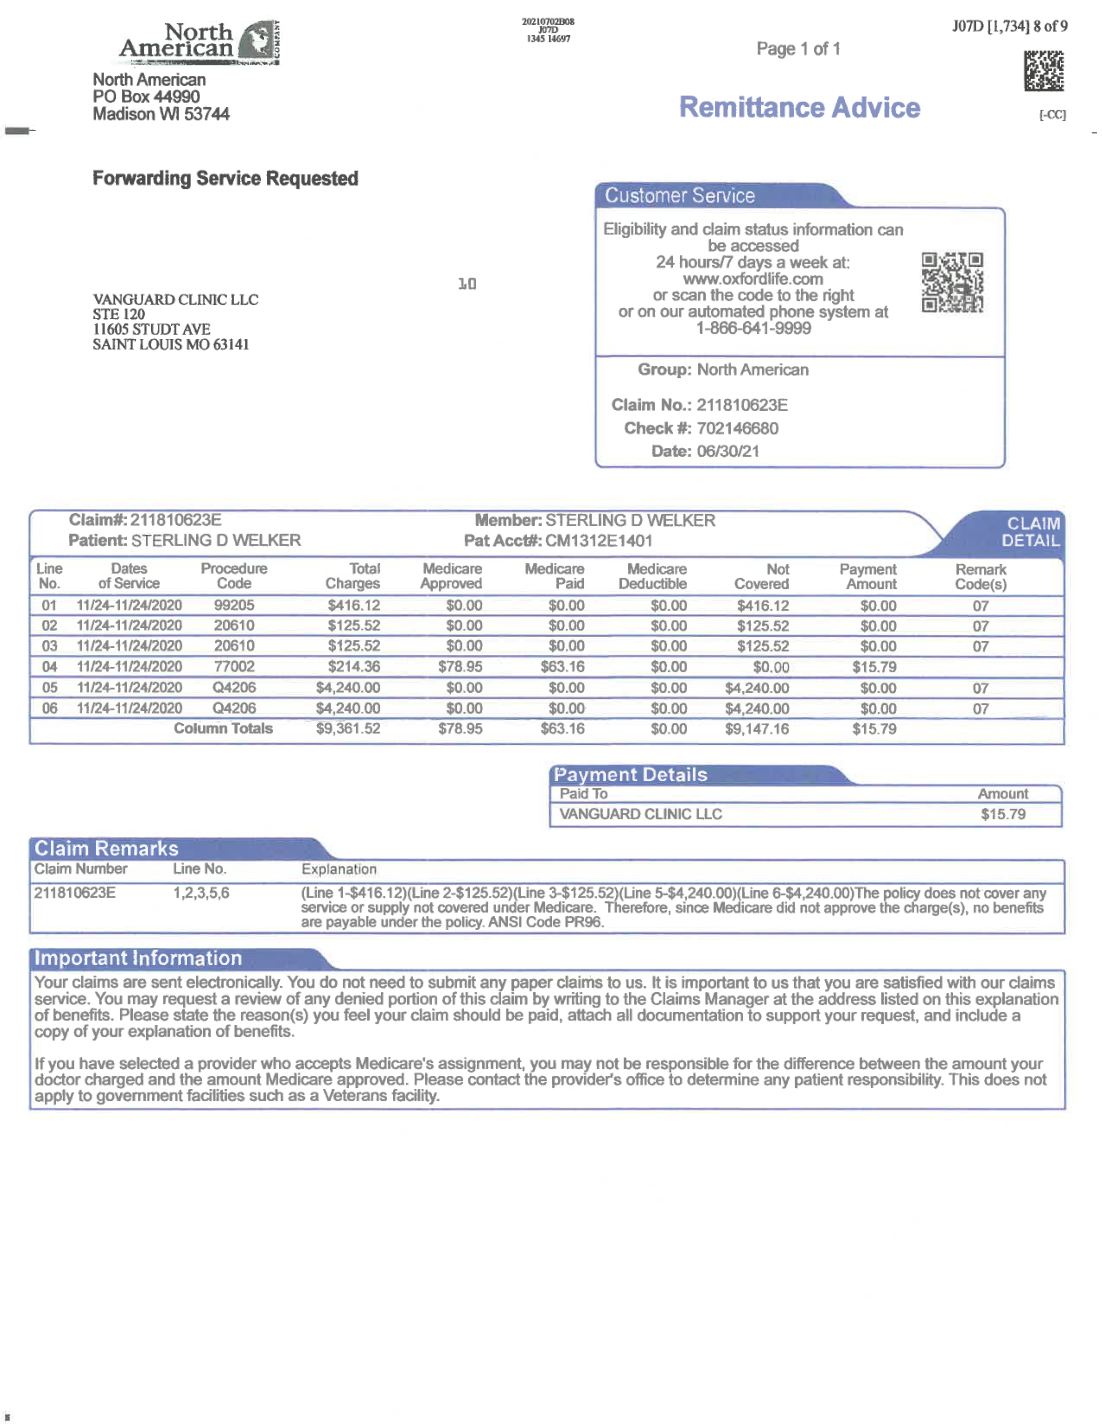data: (583, 172, 1019, 479), (63, 503, 314, 558), (451, 510, 725, 547)
table: (20, 550, 1075, 758), (545, 758, 1072, 841)
